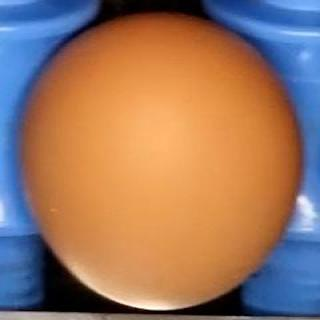Telur: (17, 14, 304, 309)
